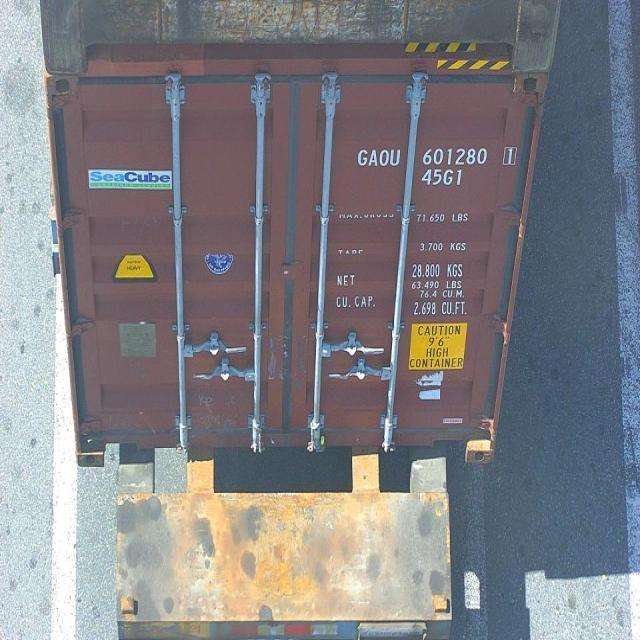ISO: (422, 169, 463, 188)
container_number: (361, 144, 520, 167)
